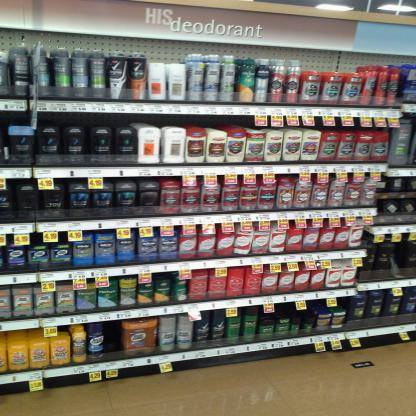Void: (103, 325, 123, 356), (396, 245, 404, 278)
